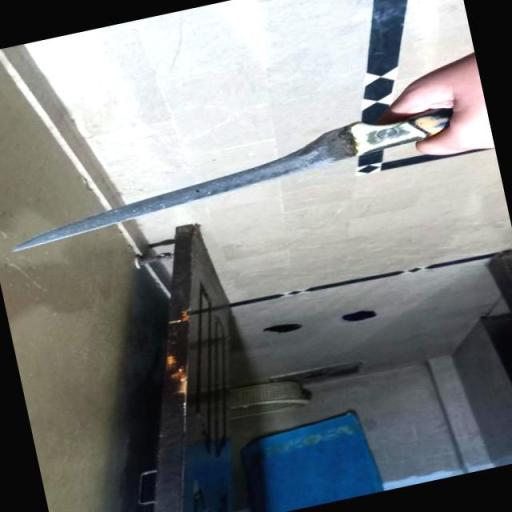knife: (0, 98, 466, 254)
